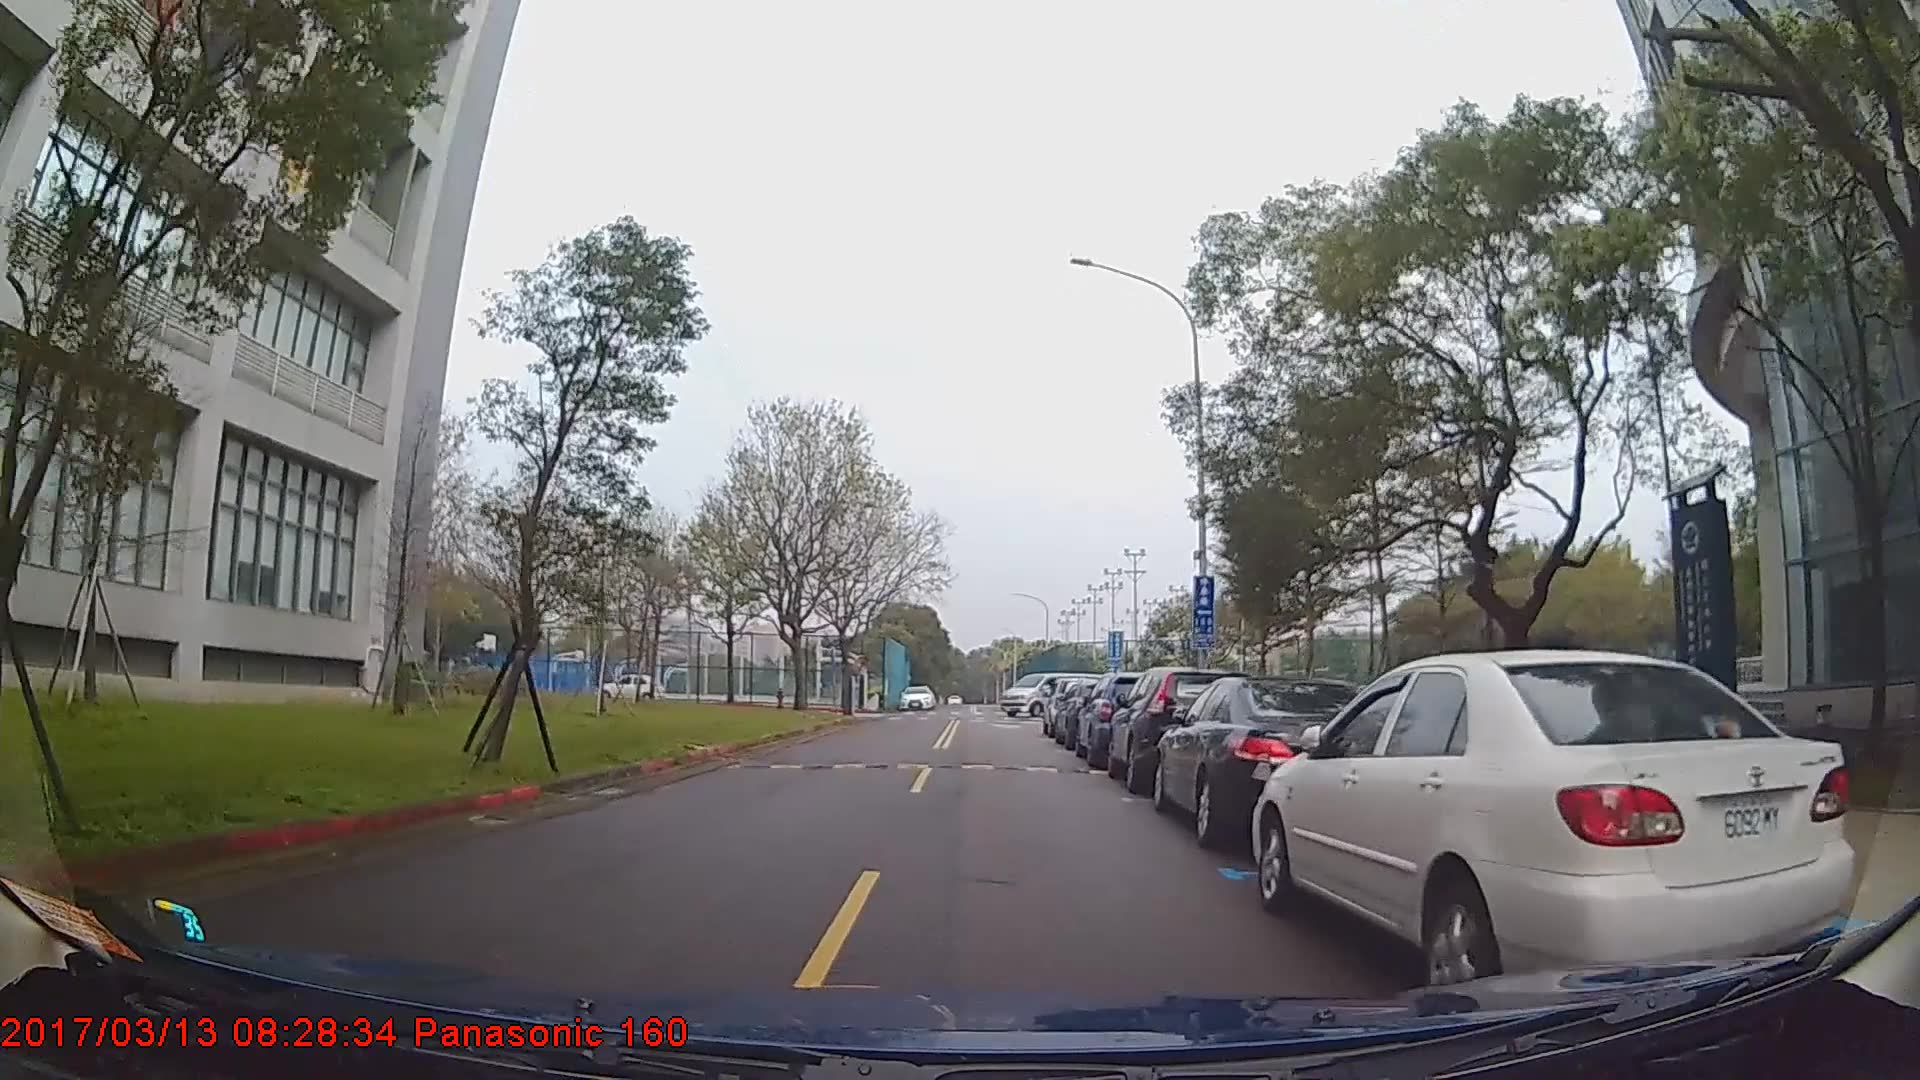vehicle: (1247, 646, 1858, 1011), (1155, 673, 1393, 848), (1104, 665, 1250, 794), (1075, 671, 1166, 770), (1000, 670, 1106, 717), (593, 670, 665, 699), (899, 683, 935, 708)
